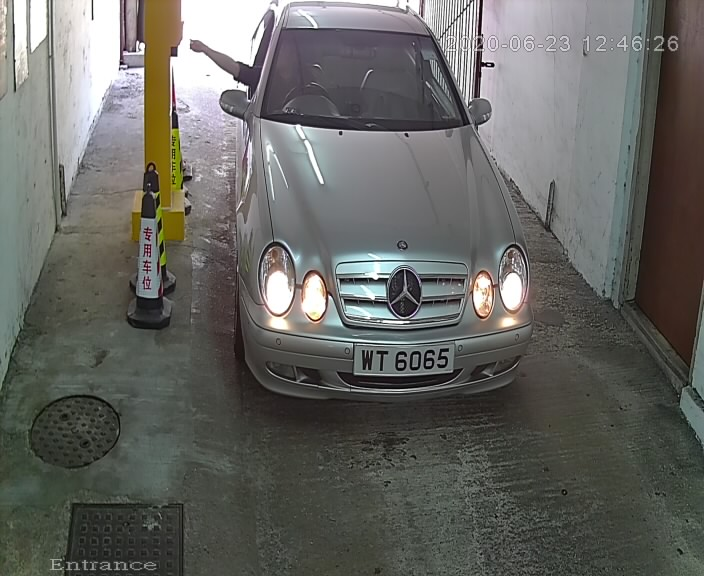privatecar: (197, 1, 562, 413)
